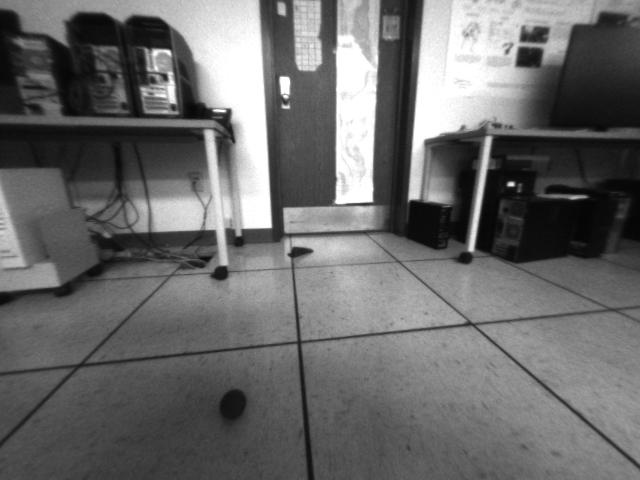dogtoy: (215, 380, 257, 426)
